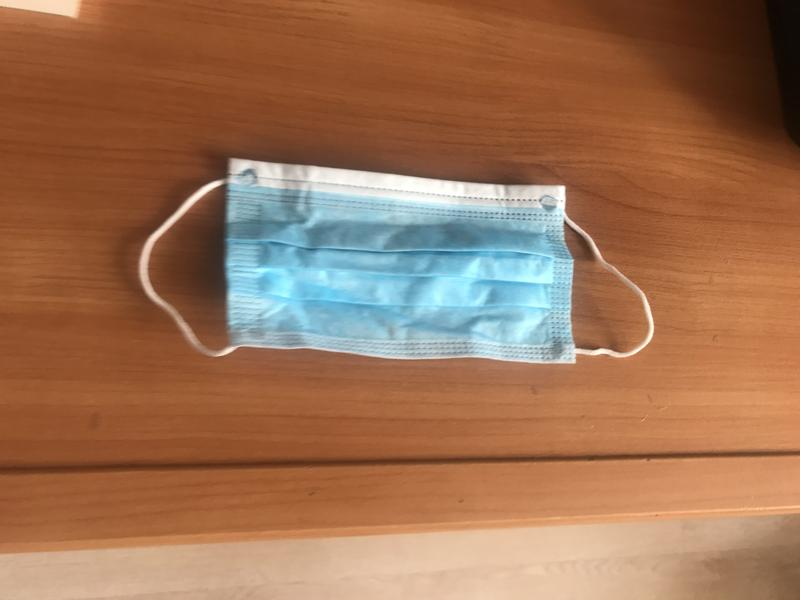medical_mask: (138, 158, 654, 367)
